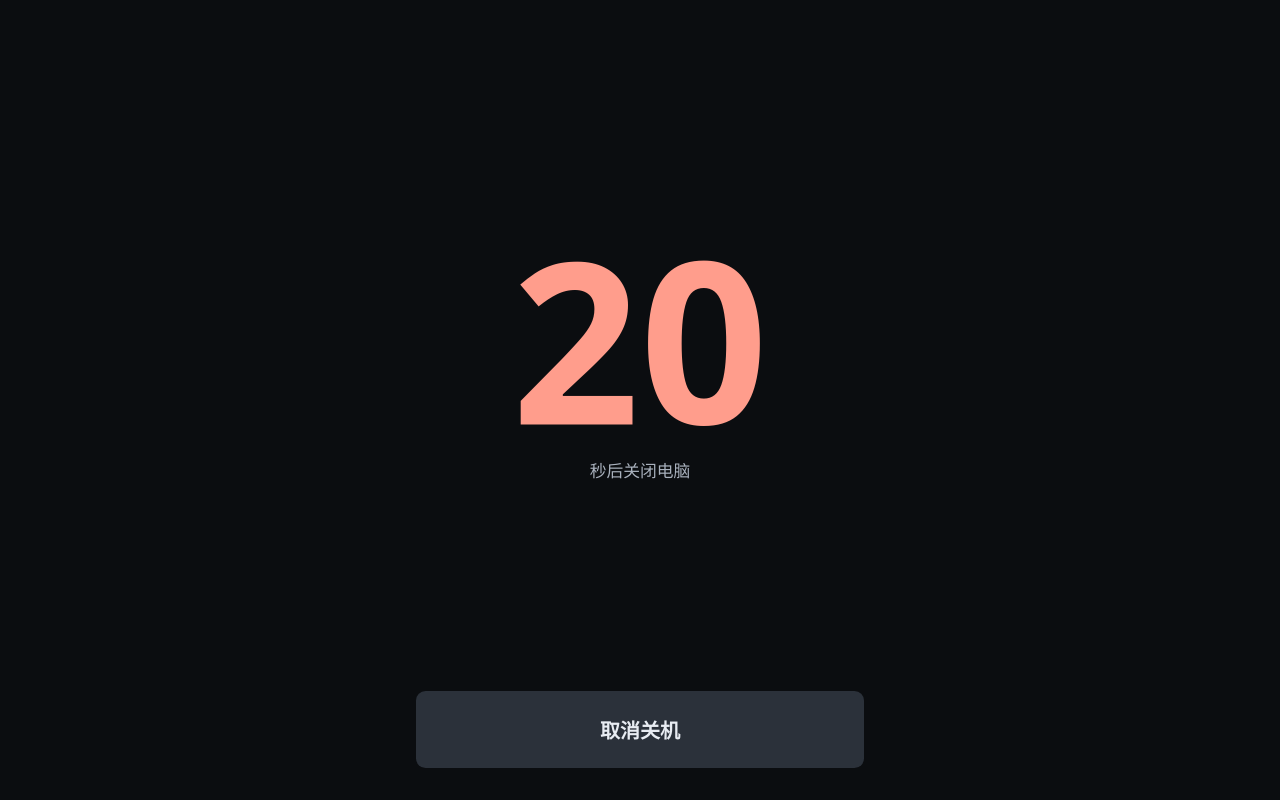
Test case: 手动关机走后端权威倒计时 › 取消没有回应时保留提醒与“电脑仍可能关机”的警告，且不自动重发
Click the button with test id "shutdown-cancel" at (640, 730), box [416,691,864,768]
Wait 60000 ms
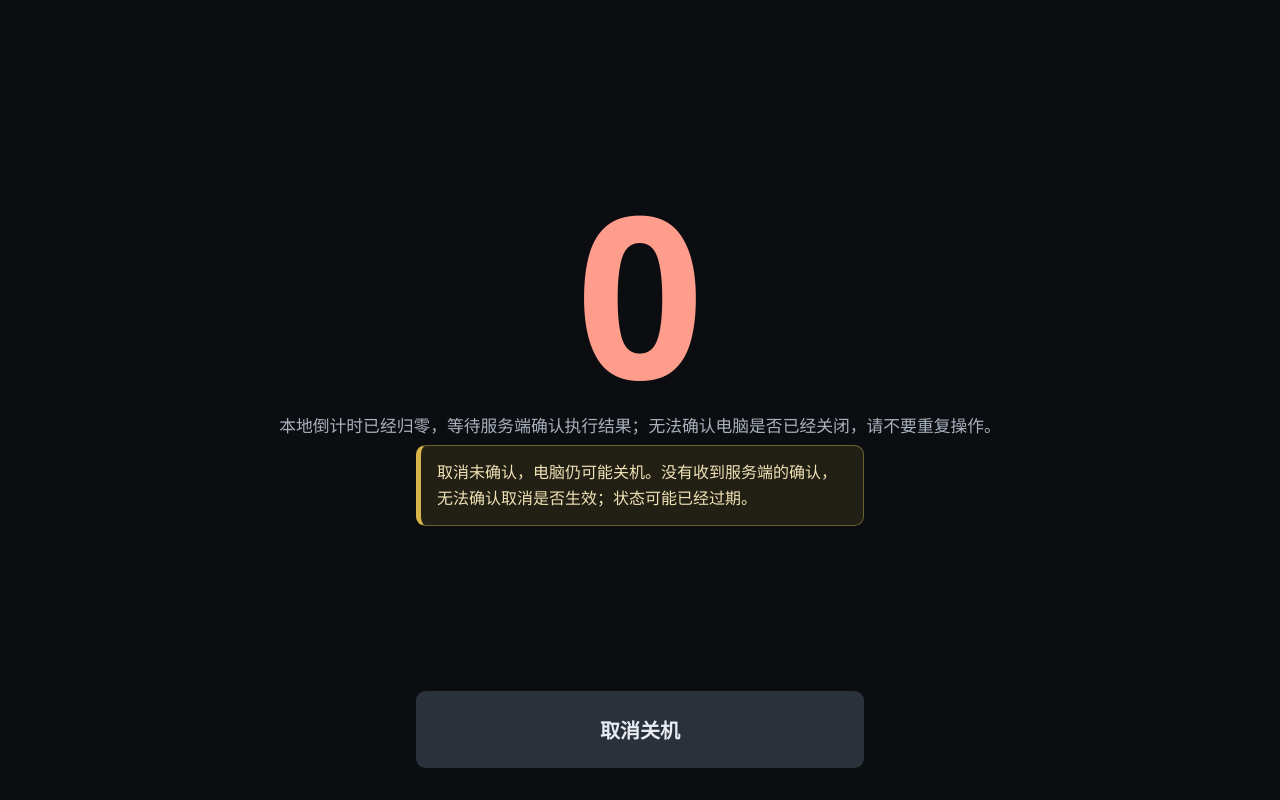
Expected: the text with test id "shutdown-warning" shows "取消未确认，电脑仍可能关机", [437,461,837,508]
